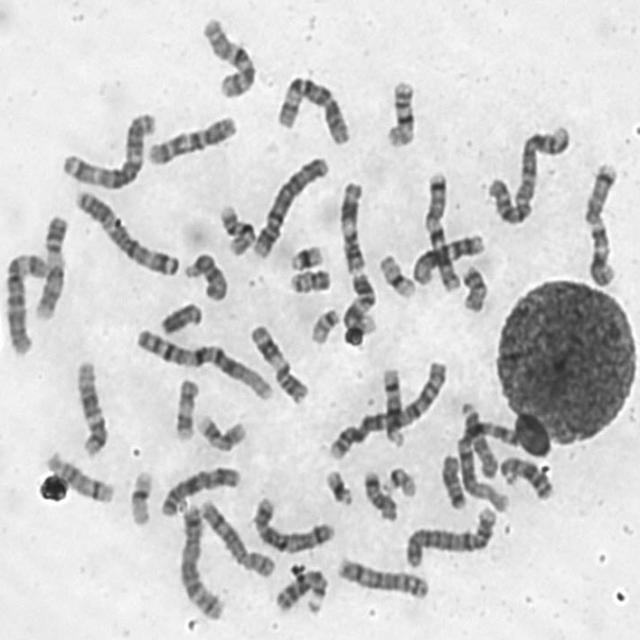A1: (132, 323, 274, 403), (452, 415, 522, 512)
A2: (325, 354, 449, 463), (484, 120, 572, 227)
A3: (68, 185, 180, 278), (57, 106, 158, 190)
B4: (248, 151, 330, 261), (401, 502, 498, 570)
B5: (174, 498, 227, 622), (249, 493, 336, 555)
C10: (142, 110, 239, 168), (197, 12, 258, 101)
C11: (245, 319, 309, 406), (335, 175, 368, 276)
C12: (409, 230, 486, 287), (72, 356, 110, 458)
C6: (272, 70, 352, 148), (1, 248, 51, 357)
C7: (419, 166, 462, 294), (580, 157, 620, 289)
C8: (195, 494, 277, 580), (332, 552, 430, 602)
C9: (30, 210, 70, 323), (338, 269, 379, 348)
D13: (270, 562, 330, 616), (494, 450, 555, 503)
D14: (41, 448, 116, 505), (378, 362, 407, 449)
D15: (455, 397, 500, 480), (180, 248, 229, 302)
E16: (381, 75, 417, 150), (215, 199, 257, 258)
E17: (192, 410, 248, 454), (171, 374, 200, 444)
E18: (359, 466, 399, 523), (437, 449, 468, 512)
F19: (375, 250, 418, 300), (124, 465, 154, 528)
F20: (457, 260, 489, 314), (284, 265, 332, 295)
G21: (320, 465, 354, 507), (286, 240, 324, 272)
G22: (306, 304, 342, 346), (378, 463, 418, 499)
X: (156, 461, 242, 519)
Y: (156, 297, 203, 337)
